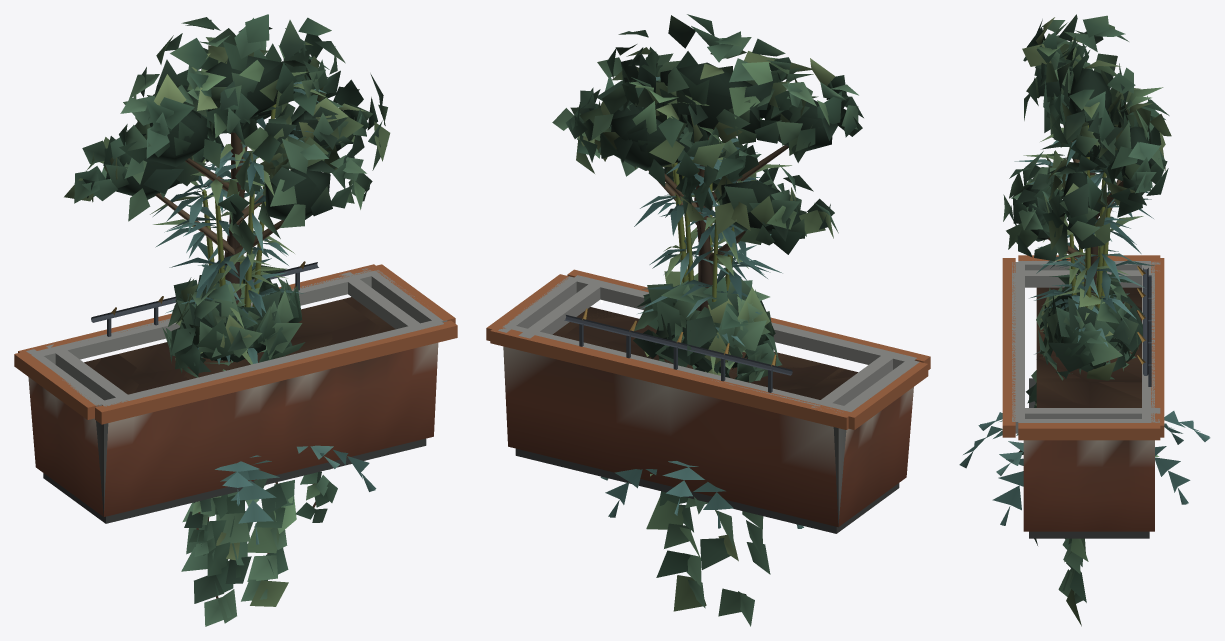
Rendered from foliage306.glb.
3 renders of one model, left to right at view 1: azimuth 30°, elevation 25°; view 2: azimuth 150°, elevation 25°; view 3: azimuth 270°, elevation 25°, orthographic. The views are drawn at different scales.
Parts seen in each view (by area): view 1: tr14_terra-f306-stone, tree-f306-leaf, tr14_conc-f306-stone, tr12_conc-f306-stone, shrubL-f306-leaf, ivy-f306-leaf, bamboo-f306-leaf, fern-f306-leaf, wbox-f306-leaf, tree-f306-bark, bamboo-f306-bark, tr12_steel-f306-steel; view 2: tr14_terra-f306-stone, tree-f306-leaf, tr14_conc-f306-stone, tr12_conc-f306-stone, shrubL-f306-leaf, ivy-f306-leaf, bamboo-f306-leaf, tr12_steel-f306-steel, fern-f306-leaf, tree-f306-bark, bamboo-f306-bark; view 3: tree-f306-leaf, tr14_terra-f306-stone, shrubL-f306-leaf, tr12_conc-f306-stone, tr14_conc-f306-stone, bamboo-f306-leaf, fern-f306-leaf, ivy-f306-leaf, tr12_steel-f306-steel, bamboo-f306-bark, tree-f306-bark.
Part boxes in pixels (x1=…): tr14_terra-f306-stone: x1=14, y1=264, x2=457, y2=516; tree-f306-leaf: x1=64, y1=14, x2=390, y2=254; tr14_conc-f306-stone: x1=26, y1=267, x2=447, y2=523; tr12_conc-f306-stone: x1=46, y1=272, x2=420, y2=513; shrubL-f306-leaf: x1=162, y1=265, x2=305, y2=491; ivy-f306-leaf: x1=181, y1=480, x2=296, y2=626; bamboo-f306-leaf: x1=150, y1=71, x2=327, y2=364; fern-f306-leaf: x1=215, y1=445, x2=376, y2=544; wbox-f306-leaf: x1=184, y1=469, x2=337, y2=556; tree-f306-bark: x1=155, y1=132, x2=283, y2=304; bamboo-f306-bark: x1=202, y1=94, x2=277, y2=307; tr12_steel-f306-steel: x1=91, y1=261, x2=318, y2=336; tr14_terra-f306-stone: x1=486, y1=269, x2=930, y2=527; tree-f306-leaf: x1=552, y1=14, x2=863, y2=254; tr14_conc-f306-stone: x1=498, y1=275, x2=919, y2=533; tr12_conc-f306-stone: x1=518, y1=281, x2=895, y2=528; shrubL-f306-leaf: x1=633, y1=270, x2=782, y2=476; ivy-f306-leaf: x1=646, y1=491, x2=770, y2=626; bamboo-f306-leaf: x1=634, y1=76, x2=791, y2=373; tr12_steel-f306-steel: x1=564, y1=308, x2=792, y2=392; fern-f306-leaf: x1=600, y1=461, x2=803, y2=528; tree-f306-bark: x1=648, y1=137, x2=788, y2=313; bamboo-f306-bark: x1=672, y1=162, x2=734, y2=301; tree-f306-leaf: x1=1003, y1=14, x2=1171, y2=261; tr14_terra-f306-stone: x1=1002, y1=255, x2=1164, y2=531; shrubL-f306-leaf: x1=1018, y1=265, x2=1159, y2=456; tr12_conc-f306-stone: x1=1012, y1=270, x2=1160, y2=418; tr14_conc-f306-stone: x1=1012, y1=261, x2=1160, y2=538; bamboo-f306-leaf: x1=1014, y1=127, x2=1154, y2=354; fern-f306-leaf: x1=959, y1=411, x2=1210, y2=525; ivy-f306-leaf: x1=1058, y1=538, x2=1088, y2=626; tr12_steel-f306-steel: x1=1137, y1=266, x2=1151, y2=386; bamboo-f306-bark: x1=1069, y1=125, x2=1110, y2=308; tree-f306-bark: x1=1048, y1=125, x2=1123, y2=305.
Bounding box in the file's own units: 1.56 × 2.42 × 0.9571.
